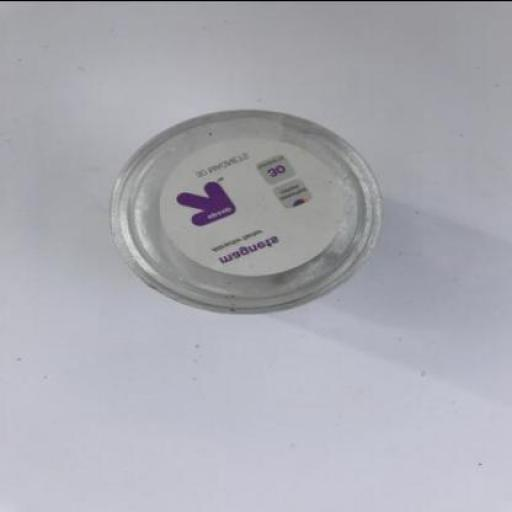plastic: (112, 112, 383, 314)
